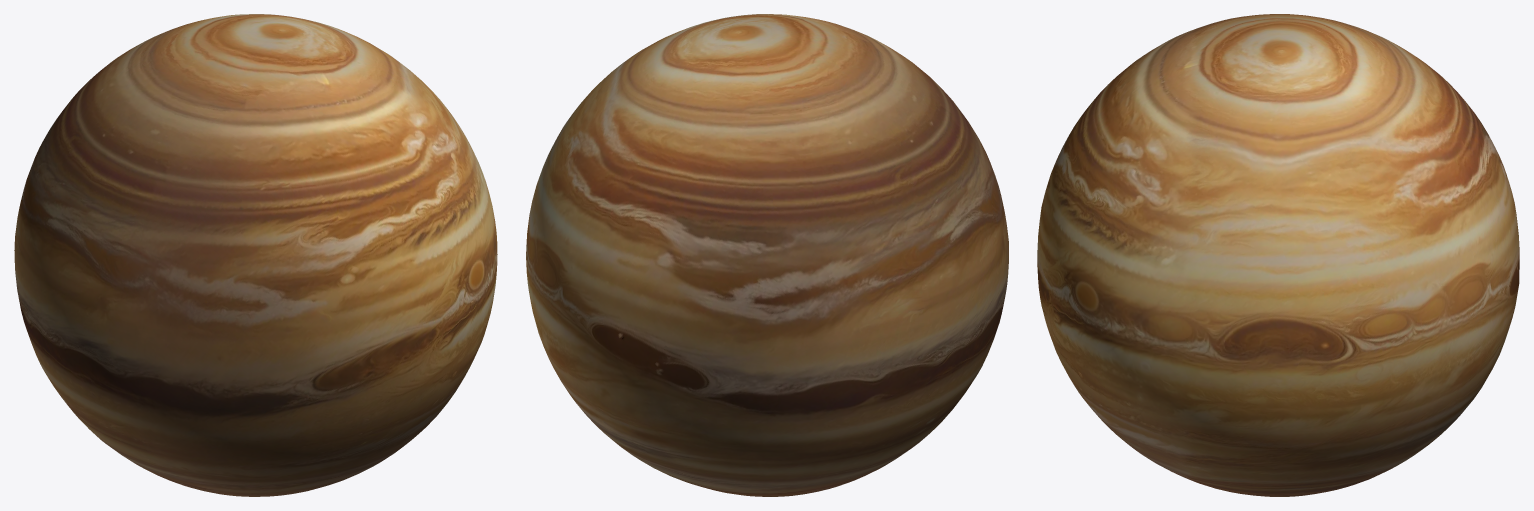
File: gas_planet_6.glb
The picture shows the model from 3 angles, left to right: view 1: azimuth 30°, elevation 25°; view 2: azimuth 150°, elevation 25°; view 3: azimuth 270°, elevation 25°; orthographic projection.
Visible parts, largest first — view 1: Mesh_0.025; view 2: Mesh_0.025; view 3: Mesh_0.025.
Part boxes in pixels (bbox=[...]): Mesh_0.025: bbox=[14, 14, 497, 496]; Mesh_0.025: bbox=[526, 14, 1008, 496]; Mesh_0.025: bbox=[1037, 14, 1519, 496].
Size of the model in its own units: 2 by 2 by 2.
1 material, 1 textured.
